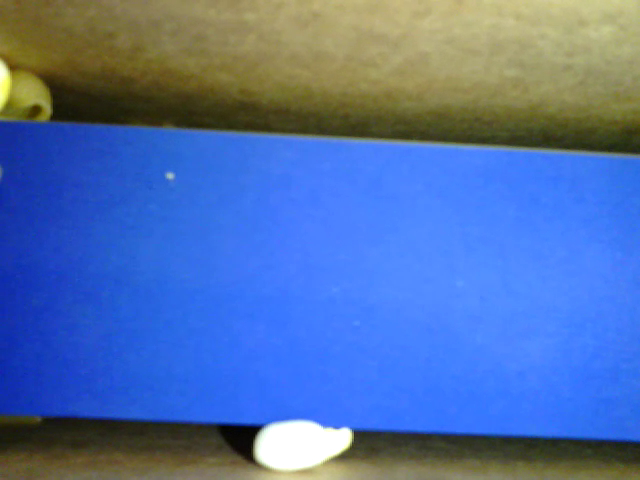shell: (3, 63, 52, 125)
